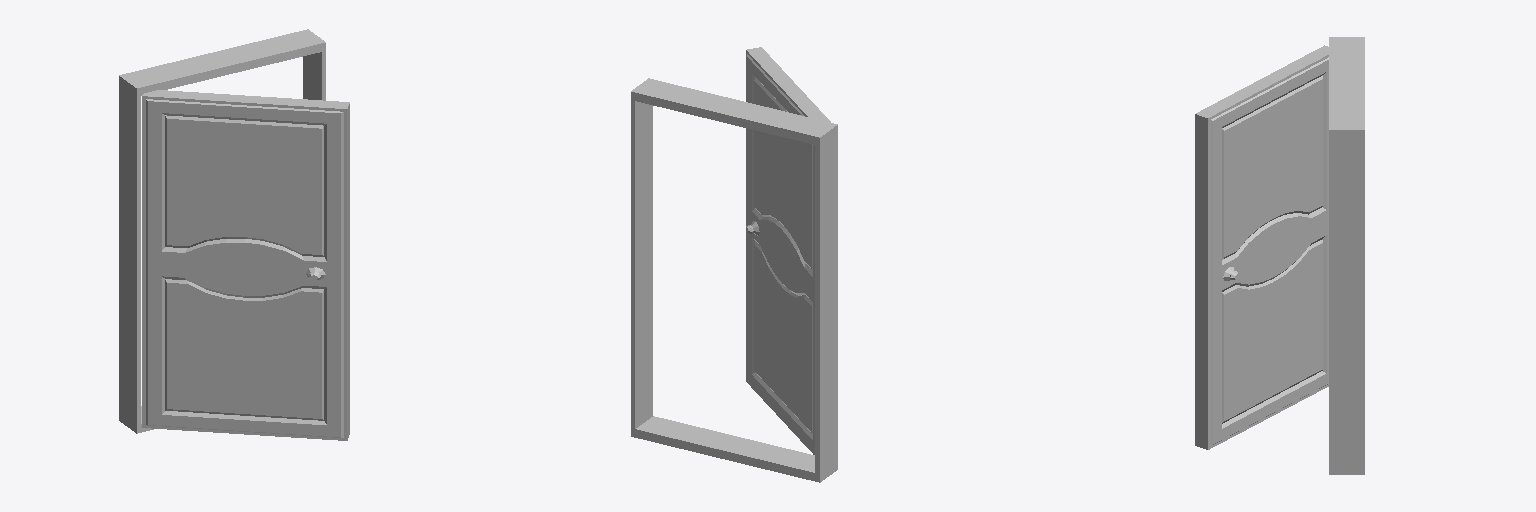
File: drzwiok_000023.obj
The picture shows the model from 3 angles: view 1: azimuth 30°, elevation 25°; view 2: azimuth 150°, elevation 25°; view 3: azimuth 270°, elevation 25°; orthographic projection.
Visible parts, largest first — view 1: Door_4.001_Cube.001, Kostka; view 2: Kostka, Door_4.001_Cube.001; view 3: Door_4.001_Cube.001, Kostka.
Boxes of the visible parts, box(x1,y1,x2,y2) form: Door_4.001_Cube.001: box(142, 90, 349, 440); Kostka: box(119, 29, 325, 433); Kostka: box(631, 78, 837, 482); Door_4.001_Cube.001: box(746, 47, 830, 454); Door_4.001_Cube.001: box(1195, 45, 1328, 449); Kostka: box(1329, 37, 1364, 474).
Size of the model in its own units: 0.7416 by 1.29 by 0.5769.